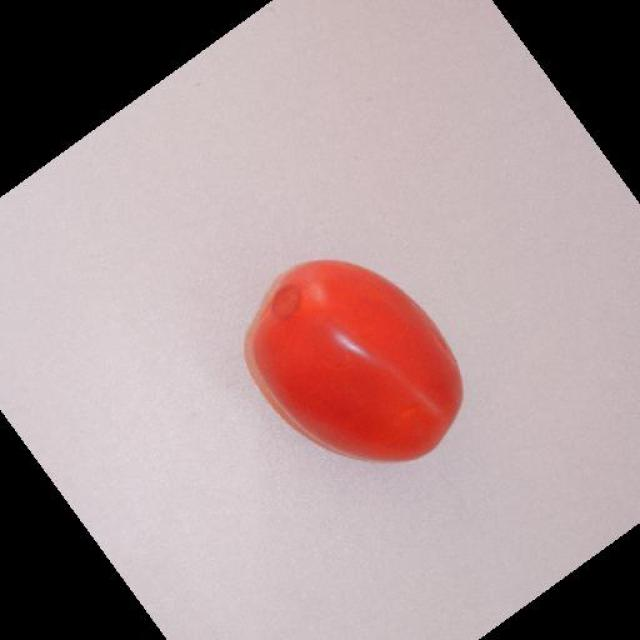Stale_tomato: (246, 232, 474, 453)
